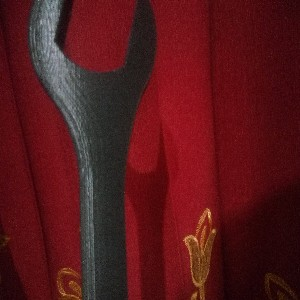spanner: (27, 1, 161, 300)
